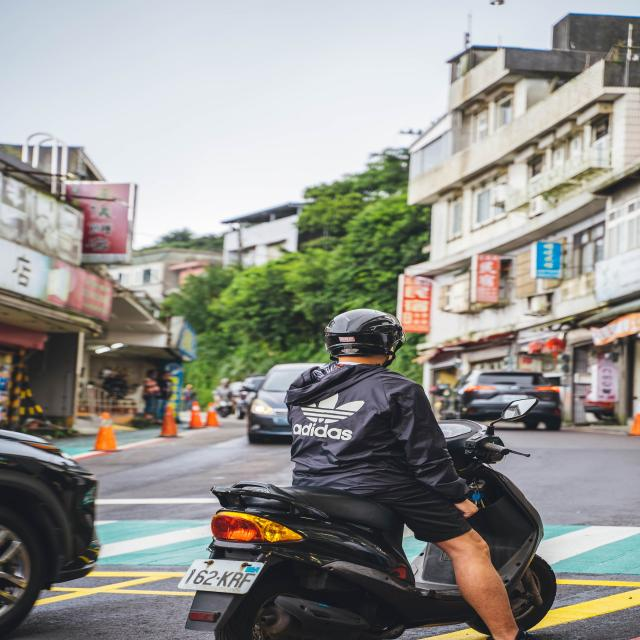With Helmet: (178, 293, 594, 640)
